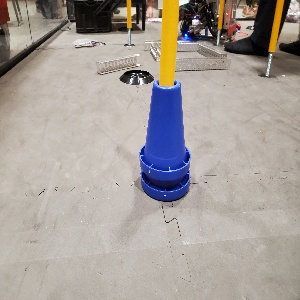Blue_2: (139, 78, 190, 201)
